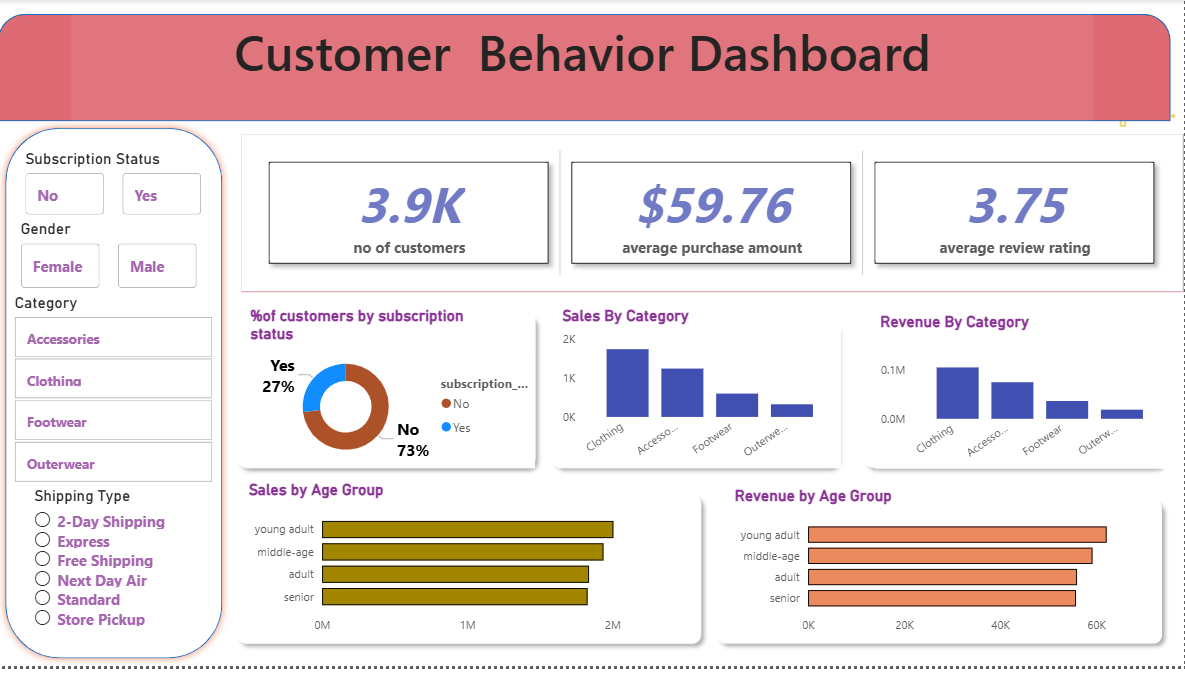

What the dashboard file says about the page in this screenshot:
{"tool":"powerbi","page":{"name":"Page 1","canvas":[1280,720],"ordinal":0},"visuals":[{"type":"cardVisual","fields":{"Data":["public customer.no of customers","public customer.average purchase amount","public customer.average review rating"]},"box":[261.5,146.2,1017.9,170.5],"z":0},{"type":"shape","box":[0,15.7,1265.7,115.7],"z":1000},{"type":"textbox","box":[79.4,15.1,1103.6,130.4],"z":2000},{"type":"shape","box":[250,332.1,339.7,183.3],"z":3000},{"type":"shape","box":[0,131.4,250,588.6],"z":4000},{"type":"advancedSlicerVisual","title":"Subscription Status","fields":{"Values":["public customer.subscription_status"]},"box":[25,162.5,200,76.2],"z":5000},{"type":"shape","box":[589.4,338.4,325.5,176.5],"z":6000},{"type":"shape","box":[926.2,338.4,340,176.5],"z":7000},{"type":"donutChart","title":"%of customers by subscription status","fields":{"Category":["public customer.subscription_status"],"Y":["CountNonNull(public customer.customer_id)"]},"box":[267.9,332.1,312.8,174.4],"z":8000},{"type":"clusteredColumnChart","title":"Sales By Category","fields":{"Y":["CountNonNull(public customer.customer_id)"],"Category":["public customer.category"]},"box":[604,331.9,306,174.9],"z":9000},{"type":"clusteredColumnChart","title":"Revenue By Category","fields":{"Y":["Sum(public customer.purchase_amount)"],"Category":["public customer.category"]},"box":[947.2,338.4,319,168.4],"z":10000},{"type":"advancedSlicerVisual","title":"Category","fields":{"Values":["public customer.category"]},"box":[12.5,317.5,223.8,208.8],"z":11000},{"type":"listSlicer","title":"Shipping Type","fields":{"Values":["public customer.shipping_type"]},"box":[33.8,526.2,161.2,161.2],"z":12000},{"type":"shape","box":[768,532,498,172],"z":14000},{"type":"advancedSlicerVisual","title":"Gender","fields":{"Values":["public customer.gender"]},"box":[18.8,238.8,200,78.8],"z":17000},{"type":"shape","box":[250,526.2,518.8,178.8],"z":17001},{"type":"clusteredBarChart","title":"Revenue by Age Group","fields":{"Y":["Sum(public customer.purchase_amount)"],"Category":["public customer.age_group"]},"box":[790,526,462,168],"z":17002},{"type":"clusteredBarChart","title":"Sales by Age Group","fields":{"Y":["Sum(public customer.customer_id)"],"Category":["public customer.age_group"]},"box":[265,520,490,173.8],"z":17003}]}

Visuals, with their boxes in screenshot pixels (x1, y1, x2, y2), scaled from the page's 1280x720 canvas onto the 1185x673 screenshot:
cardVisual - public customer.no of customers x public customer.average purchase amount: crop(242, 137, 1184, 296)
shape: crop(0, 15, 1172, 123)
textbox: crop(74, 14, 1095, 136)
shape: crop(231, 310, 546, 482)
shape: crop(0, 123, 231, 672)
"Subscription Status" advancedSlicerVisual: crop(23, 152, 208, 223)
shape: crop(546, 316, 847, 481)
shape: crop(857, 316, 1172, 481)
"%of customers by subscription status" donutChart: crop(248, 310, 538, 473)
"Sales By Category" clusteredColumnChart: crop(559, 310, 842, 474)
"Revenue By Category" clusteredColumnChart: crop(877, 316, 1172, 474)
"Category" advancedSlicerVisual: crop(12, 297, 219, 492)
"Shipping Type" listSlicer: crop(31, 492, 181, 643)
shape: crop(711, 497, 1172, 658)
"Gender" advancedSlicerVisual: crop(17, 223, 203, 297)
shape: crop(231, 492, 712, 659)
"Revenue by Age Group" clusteredBarChart: crop(731, 492, 1159, 649)
"Sales by Age Group" clusteredBarChart: crop(245, 486, 699, 649)
